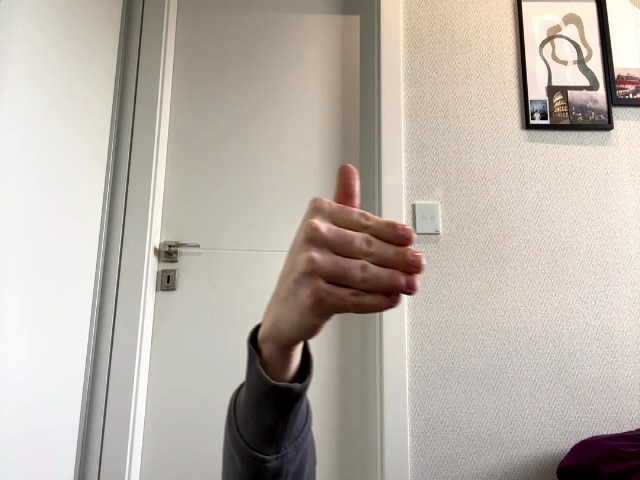M: (283, 164, 426, 350)
